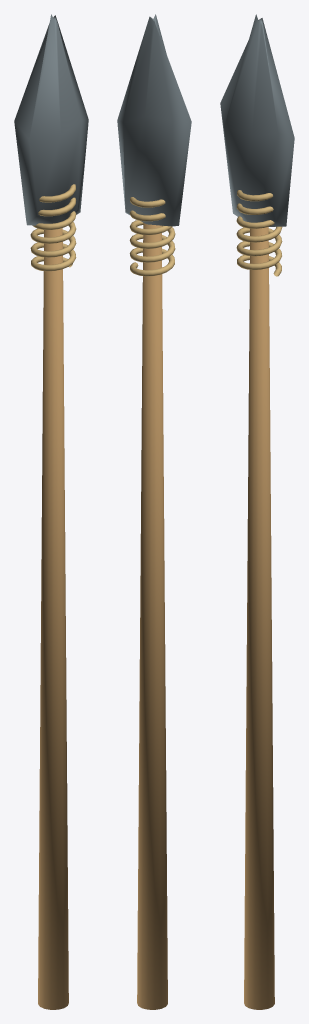
Rendered from spear.glb.
3 renders of one model, left to right at view 1: azimuth 30°, elevation 25°; view 2: azimuth 150°, elevation 25°; view 3: azimuth 330°, elevation 25°, orthographic.
Parts seen in each view (by area): view 1: spear_shaft, spear_head, spear_lashing; view 2: spear_shaft, spear_head, spear_lashing; view 3: spear_shaft, spear_head, spear_lashing.
Part boxes in pixels (left/top/right/bottom): spear_shaft: left=38, top=228, right=68, bottom=1009; spear_head: left=14, top=14, right=88, bottom=225; spear_lashing: left=30, top=184, right=76, bottom=271; spear_shaft: left=137, top=223, right=167, bottom=1009; spear_head: left=117, top=14, right=191, bottom=226; spear_lashing: left=129, top=197, right=175, bottom=276; spear_shaft: left=244, top=227, right=274, bottom=1009; spear_head: left=220, top=14, right=294, bottom=226; spear_lashing: left=236, top=190, right=282, bottom=276.
Bounding box in the file's own units: 0.1609 × 2.04 × 0.0856.
